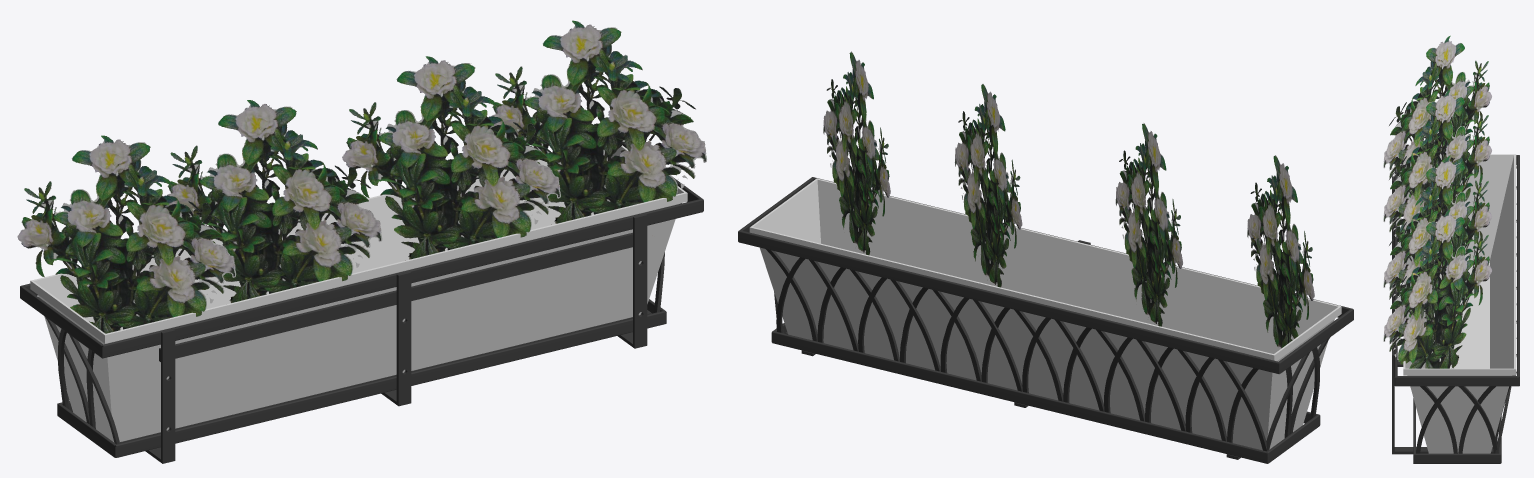
Rendered from flowerbox2.fbx.
3 renders of one model, left to right at view 1: azimuth 30°, elevation 25°; view 2: azimuth 150°, elevation 25°; view 3: azimuth 270°, elevation 25°, orthographic. The views are drawn at different scales.
Parts seen in each view (by area): view 1: Group1, arch_decora_36_DWG1, azalea2_1, azalea2_2, azalea2_4, azalea2_3; view 2: Group1, arch_decora_36_DWG1, azalea2_3, azalea2_4, azalea2_1, azalea2_2; view 3: Group1, azalea2_3, azalea2_4, arch_decora_36_DWG1, azalea2_1, azalea2_2.
Part boxes in pixels (x1=…): Group1: x1=30, y1=145, x2=687, y2=442; arch_decora_36_DWG1: x1=20, y1=143, x2=703, y2=463; azalea2_1: x1=342, y1=56, x2=560, y2=260; azalea2_2: x1=17, y1=135, x2=236, y2=333; azalea2_4: x1=167, y1=100, x2=382, y2=302; azalea2_3: x1=492, y1=20, x2=706, y2=235; Group1: x1=749, y1=178, x2=1341, y2=450; arch_decora_36_DWG1: x1=738, y1=177, x2=1353, y2=463; azalea2_3: x1=823, y1=51, x2=890, y2=255; azalea2_4: x1=1115, y1=123, x2=1182, y2=326; azalea2_1: x1=954, y1=84, x2=1022, y2=287; azalea2_2: x1=1247, y1=155, x2=1314, y2=348; Group1: x1=1403, y1=154, x2=1516, y2=453; azalea2_3: x1=1383, y1=209, x2=1491, y2=368; azalea2_4: x1=1383, y1=89, x2=1491, y2=241; arch_decora_36_DWG1: x1=1392, y1=155, x2=1519, y2=463; azalea2_1: x1=1383, y1=155, x2=1491, y2=320; azalea2_2: x1=1383, y1=35, x2=1491, y2=197.
Bounding box in the file's own units: 38.46 × 17.99 × 9.72.
